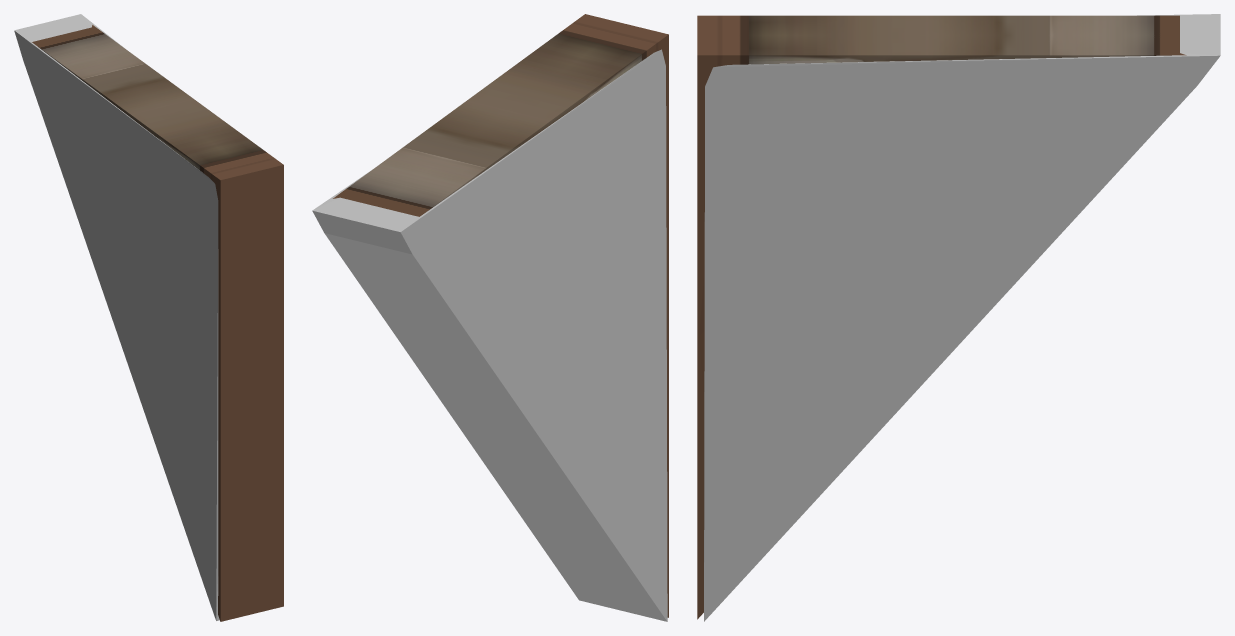
The model's file is SM_Bld_Wall_End_Straight_Small_Inverted_01.fbx.
3 renders of one model, left to right at view 1: azimuth 30°, elevation 25°; view 2: azimuth 150°, elevation 25°; view 3: azimuth 270°, elevation 25°, orthographic. The views are drawn at different scales.
Visible parts, largest first — view 1: SM_Bld_Wall_End_Straight_Small_Inverted_01_ConvexHulls, SM_Bld_Wall_End_Straight_Small_Inverted_01; view 2: SM_Bld_Wall_End_Straight_Small_Inverted_01_ConvexHulls, SM_Bld_Wall_End_Straight_Small_Inverted_01; view 3: SM_Bld_Wall_End_Straight_Small_Inverted_01_ConvexHulls, SM_Bld_Wall_End_Straight_Small_Inverted_01.
Boxes of the visible parts, x1,y1,x2,y2 form: SM_Bld_Wall_End_Straight_Small_Inverted_01_ConvexHulls: (14, 14, 219, 620); SM_Bld_Wall_End_Straight_Small_Inverted_01: (32, 25, 283, 621); SM_Bld_Wall_End_Straight_Small_Inverted_01_ConvexHulls: (312, 49, 667, 621); SM_Bld_Wall_End_Straight_Small_Inverted_01: (333, 14, 668, 617); SM_Bld_Wall_End_Straight_Small_Inverted_01_ConvexHulls: (704, 14, 1220, 621); SM_Bld_Wall_End_Straight_Small_Inverted_01: (697, 15, 1186, 619).
Size of the model in its own units: 23.79 by 126 by 150.
2 materials, 1 textured.
